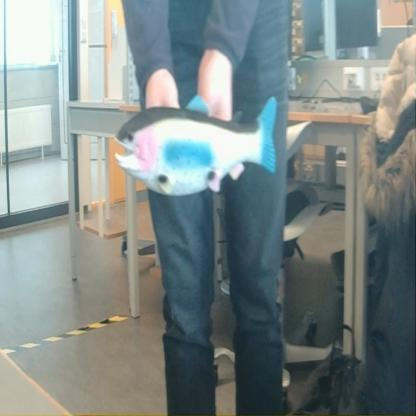rubberfish: (113, 90, 282, 200)
